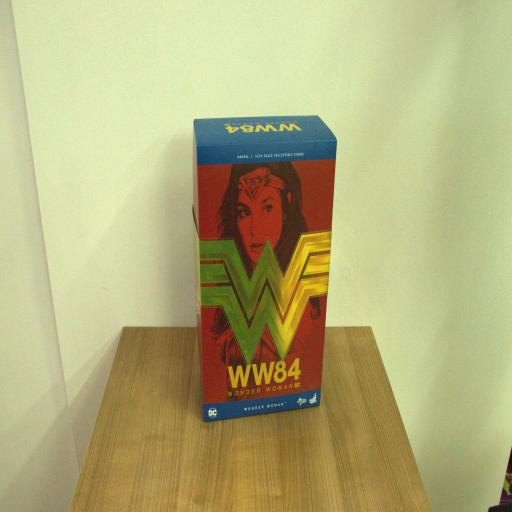WonderWoman: (191, 116, 338, 421)
